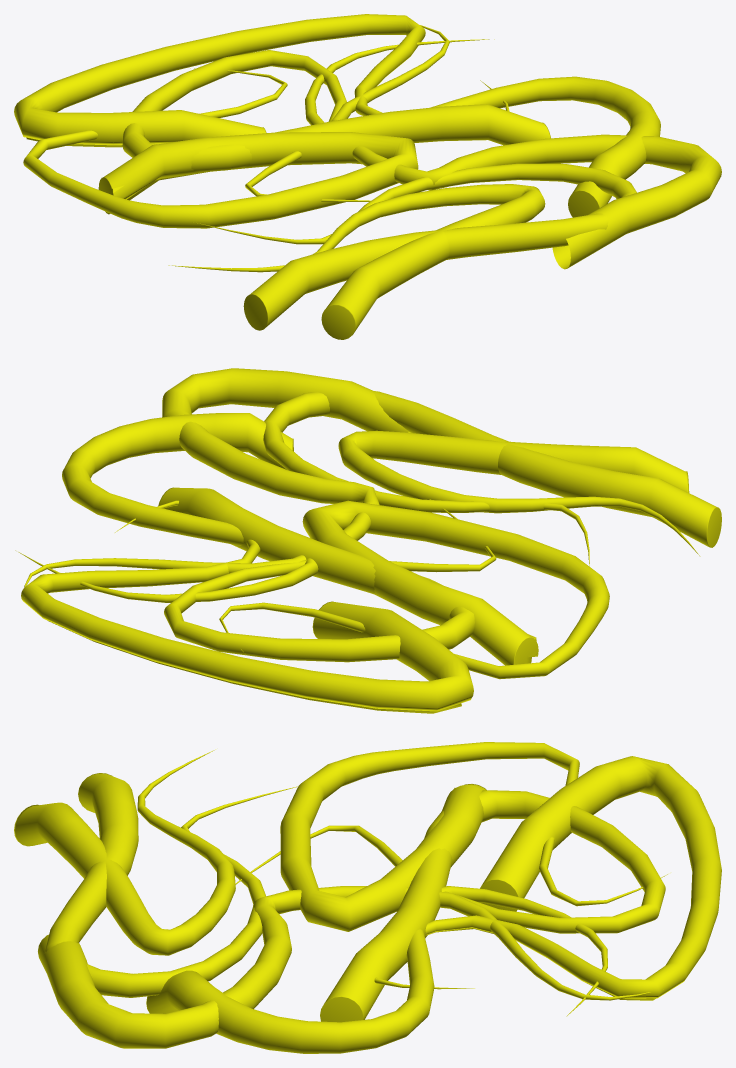
The model's file is liane_sol.fbx.
3 views of the same model, one above another, from view 1: azimuth 30°, elevation 25°; view 2: azimuth 150°, elevation 25°; view 3: azimuth 270°, elevation 25° (orthographic). The views are drawn at different scales.
Parts seen in each view (by area): view 1: liane_sol1; view 2: liane_sol1; view 3: liane_sol1.
Part boxes in pixels (<box>): liane_sol1: <box>14,14,721,339</box>; liane_sol1: <box>15,368,721,713</box>; liane_sol1: <box>14,742,721,1053</box>.
Size of the model in its own units: 2.84 by 0.2977 by 2.85.
